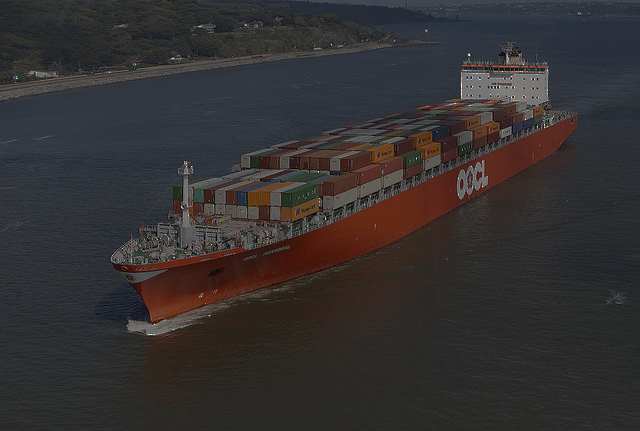container_ship: (109, 35, 580, 324)
